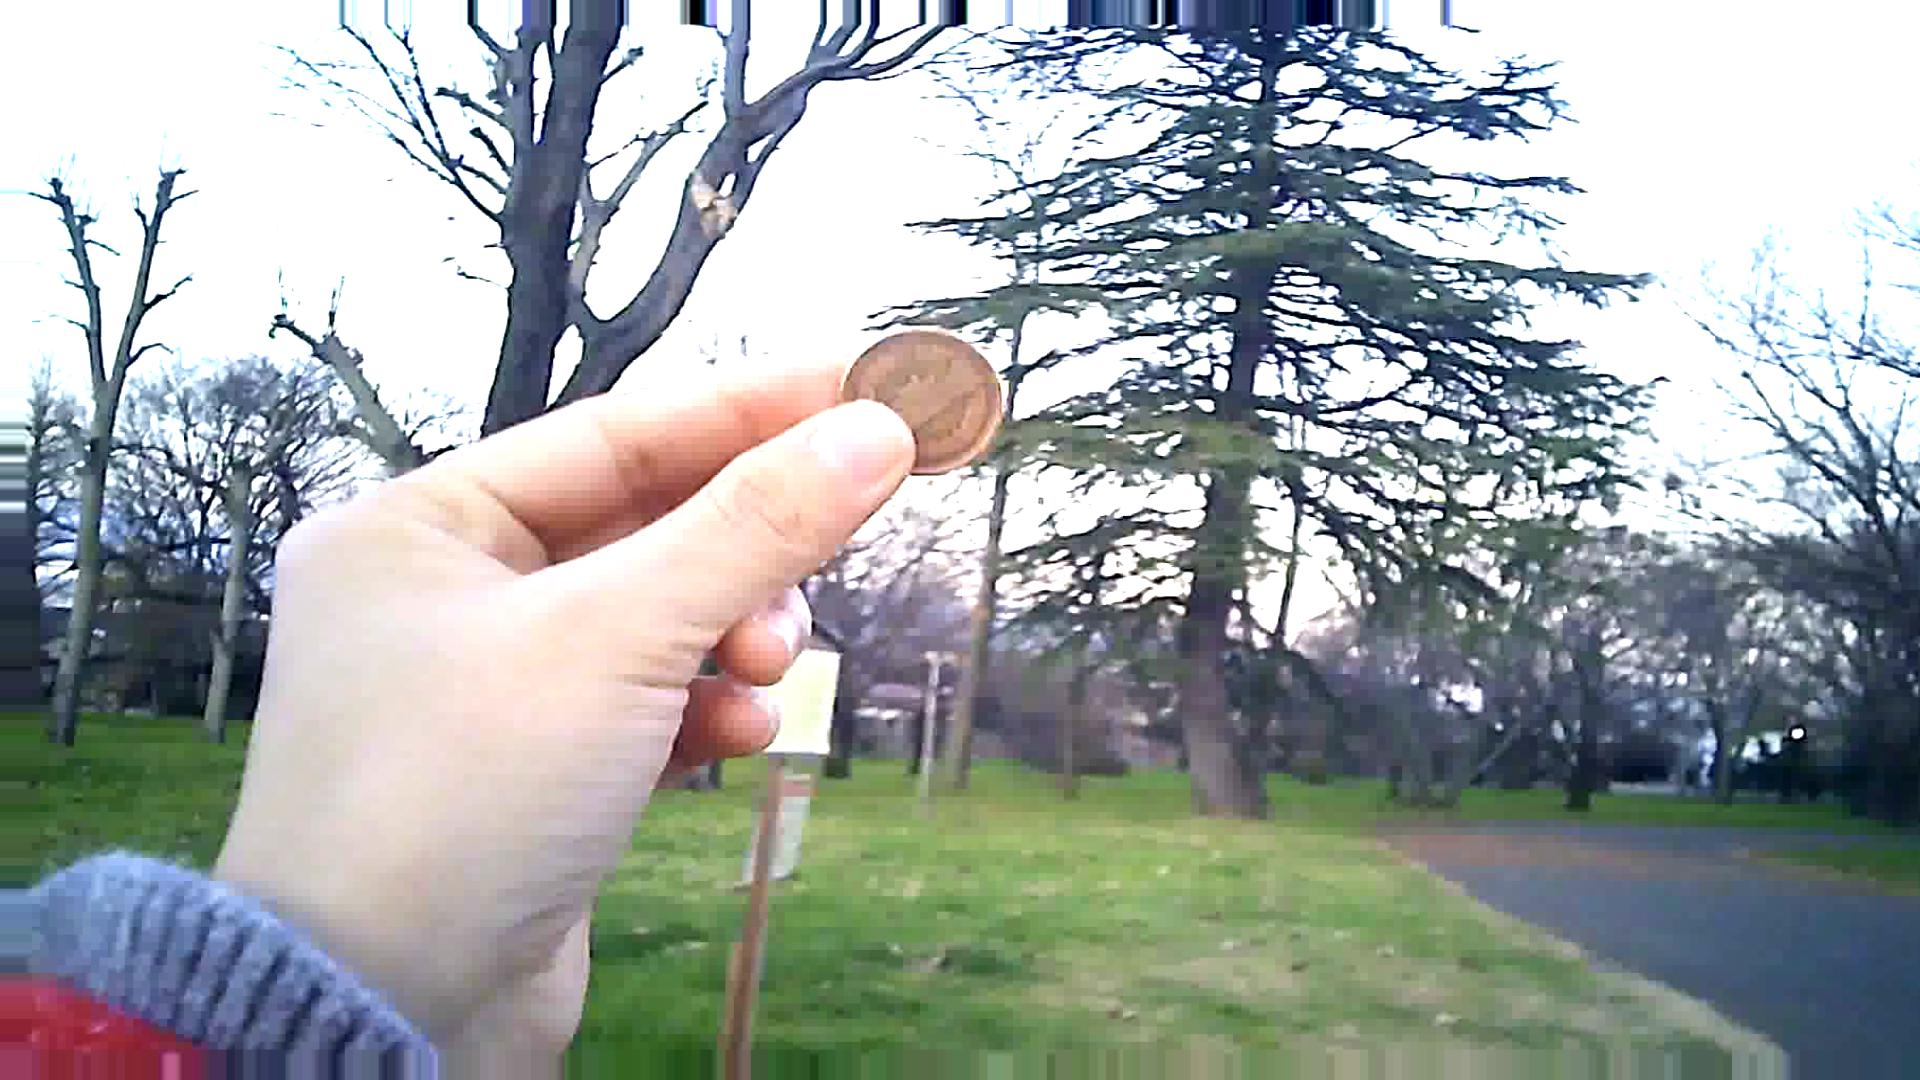10 Yen: (841, 315, 1002, 491)
